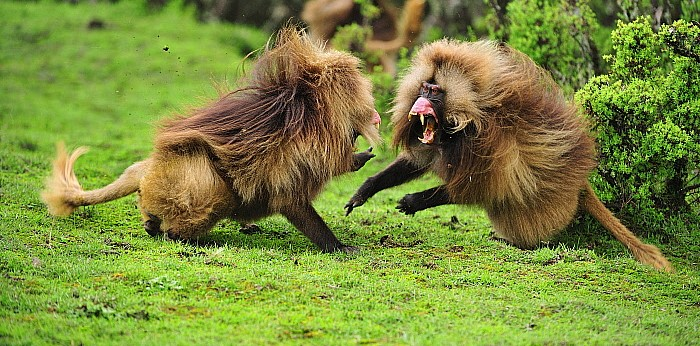Gelada: (123, 43, 382, 256), (398, 32, 618, 261)
